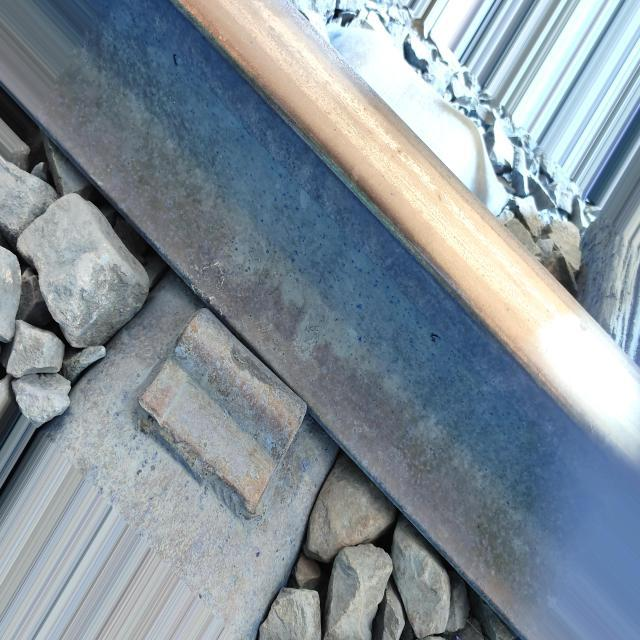Missing Fastener: (105, 305, 324, 549)
